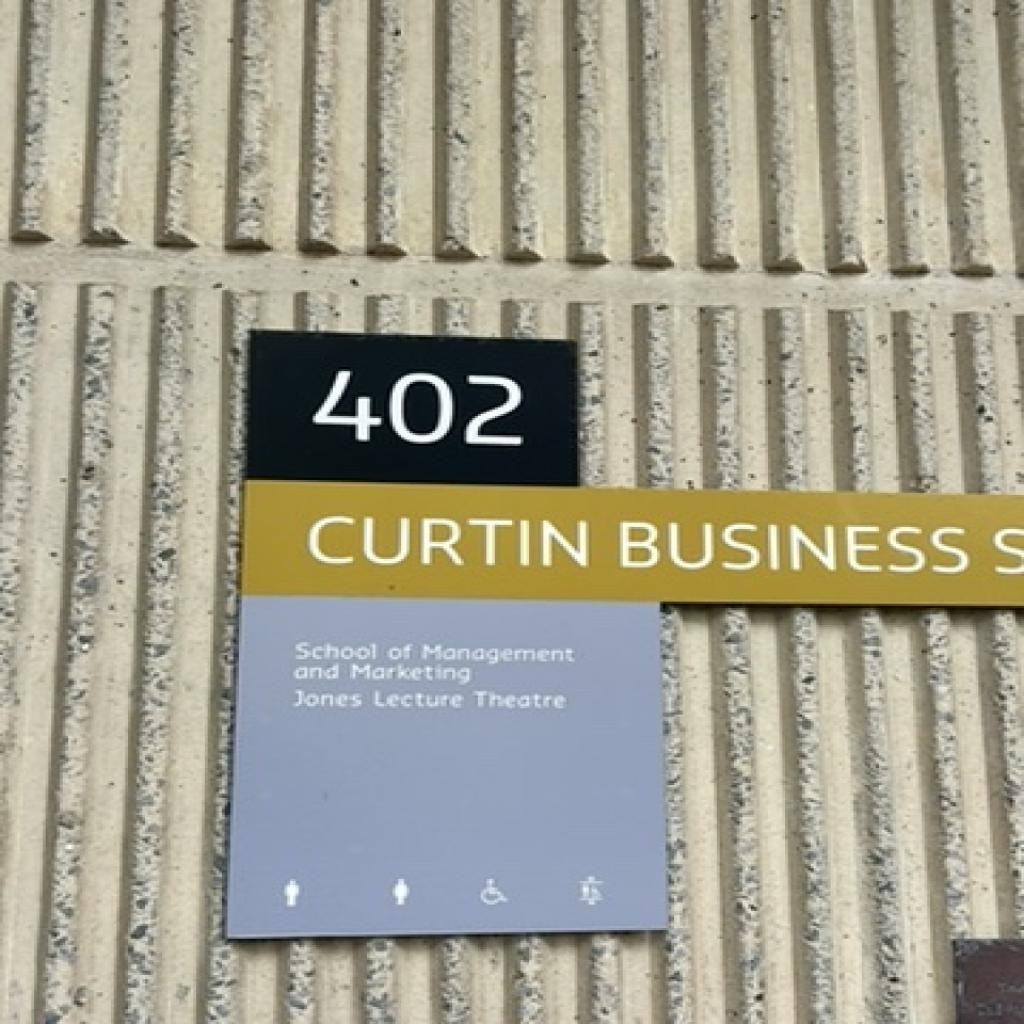BuildingCodes: (308, 367, 528, 449)
